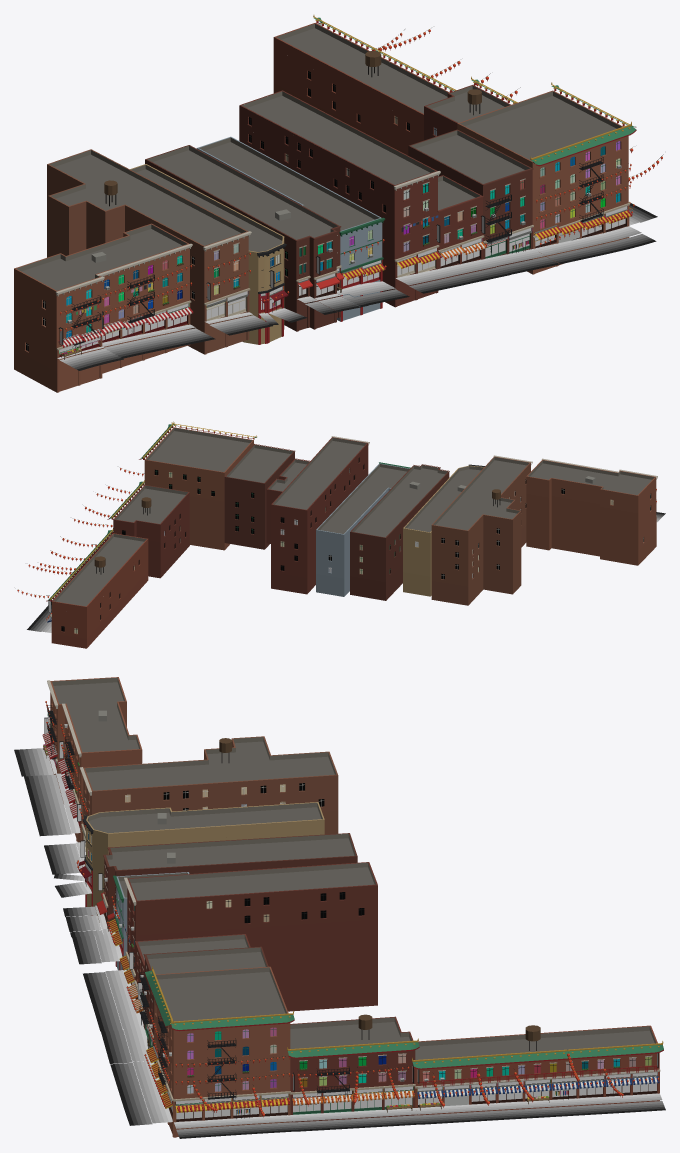
3 renders of one model, top to bottom at view 1: azimuth 30°, elevation 25°; view 2: azimuth 150°, elevation 25°; view 3: azimuth 270°, elevation 25°, orthographic. The views are drawn at different scales.
Visible parts, largest first — view 1: L0_brickred, L0_roof, L0_ground, L0_stone, L0_d_metal, L0_cwin, L0_d_brickred, L0_d_fabric, L0_stucco, L0_d_stone, L0_clear, L0_d_paint (+5 smaller); view 2: L0_brickred, L0_roof, L0_stucco, L0_stone, L0_d_brickred, L0_win, L0_d_paint, L0_d_stucco, L0_ground, L0_metal, L0_rooftile, L0_lantern (+1 smaller); view 3: L0_brickred, L0_roof, L0_ground, L0_d_metal, L0_stone, L0_d_fabric, L0_stucco, L0_d_paint, L0_rooftile, L0_clear, L0_cwin, L0_sign (+5 smaller).
Part boxes in pixels (left/top/right/bottom): L0_brickred: left=14, top=37, right=628, bottom=392; L0_roof: left=16, top=23, right=621, bottom=290; L0_ground: left=57, top=203, right=657, bottom=370; L0_stone: left=14, top=23, right=630, bottom=350; L0_d_metal: left=58, top=22, right=663, bottom=357; L0_cwin: left=66, top=141, right=620, bottom=337; L0_d_brickred: left=48, top=141, right=621, bottom=335; L0_d_fabric: left=58, top=32, right=661, bottom=347; L0_stucco: left=243, top=222, right=382, bottom=344; L0_d_stone: left=56, top=176, right=629, bottom=392; L0_clear: left=60, top=218, right=625, bottom=354; L0_d_paint: left=57, top=17, right=636, bottom=354; L0_brickred: left=52, top=440, right=656, bottom=648; L0_roof: left=53, top=428, right=654, bottom=606; L0_stucco: left=316, top=488, right=430, bottom=596; L0_stone: left=50, top=427, right=657, bottom=617; L0_d_brickred: left=265, top=451, right=521, bottom=593; L0_win: left=61, top=458, right=650, bottom=633; L0_d_paint: left=46, top=423, right=656, bottom=616; L0_d_stucco: left=344, top=488, right=431, bottom=596; L0_ground: left=27, top=512, right=665, bottom=632; L0_metal: left=61, top=458, right=650, bottom=633; L0_rooftile: left=48, top=424, right=256, bottom=600; L0_lantern: left=17, top=468, right=656, bottom=619; L0_brickred: left=50, top=692, right=659, bottom=1137; L0_roof: left=52, top=677, right=656, bottom=1059; L0_ground: left=14, top=748, right=665, bottom=1138; L0_d_metal: left=44, top=705, right=658, bottom=1121; L0_stone: left=47, top=677, right=660, bottom=1101; L0_d_fabric: left=42, top=703, right=659, bottom=1117; L0_stucco: left=86, top=819, right=324, bottom=970; L0_d_paint: left=43, top=707, right=663, bottom=1114; L0_rooftile: left=145, top=970, right=663, bottom=1068; L0_clear: left=75, top=801, right=656, bottom=1119; L0_cwin: left=88, top=832, right=651, bottom=1093; L0_sign: left=44, top=718, right=657, bottom=1104.
Size of the model in its own units: 138 by 30.56 by 112.
